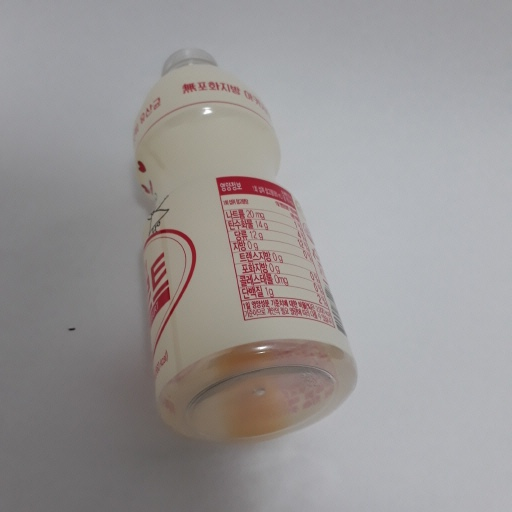Plastic_0: (126, 44, 360, 442)
